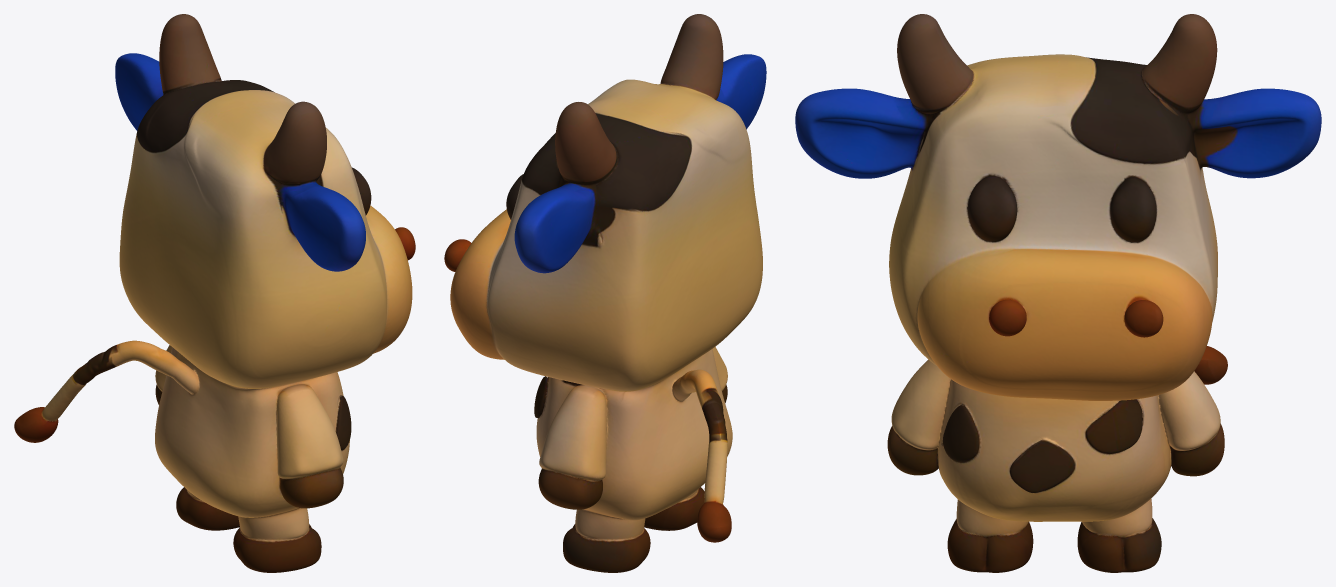
The model's file is cow.glb.
3 renders of one model, left to right at view 1: azimuth 30°, elevation 25°; view 2: azimuth 150°, elevation 25°; view 3: azimuth 270°, elevation 25°, orthographic. The views are drawn at different scales.
Visible parts, largest first — view 1: tripo_node_1b0a9cbc-645a-436f-a80e-be27b2479f30; view 2: tripo_node_1b0a9cbc-645a-436f-a80e-be27b2479f30; view 3: tripo_node_1b0a9cbc-645a-436f-a80e-be27b2479f30.
Boxes of the visible parts, bbox=[...] form: tripo_node_1b0a9cbc-645a-436f-a80e-be27b2479f30: bbox=[14, 14, 415, 572]; tripo_node_1b0a9cbc-645a-436f-a80e-be27b2479f30: bbox=[444, 14, 766, 572]; tripo_node_1b0a9cbc-645a-436f-a80e-be27b2479f30: bbox=[795, 14, 1321, 572].
Size of the model in its own units: 0.6751 by 1 by 0.8858.
1 material, 1 textured.
